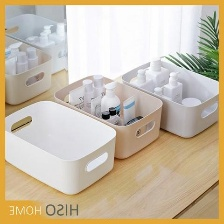plastic_box: (5, 95, 121, 198), (51, 69, 169, 164), (115, 53, 219, 142), (3, 7, 72, 78), (4, 30, 57, 108)
